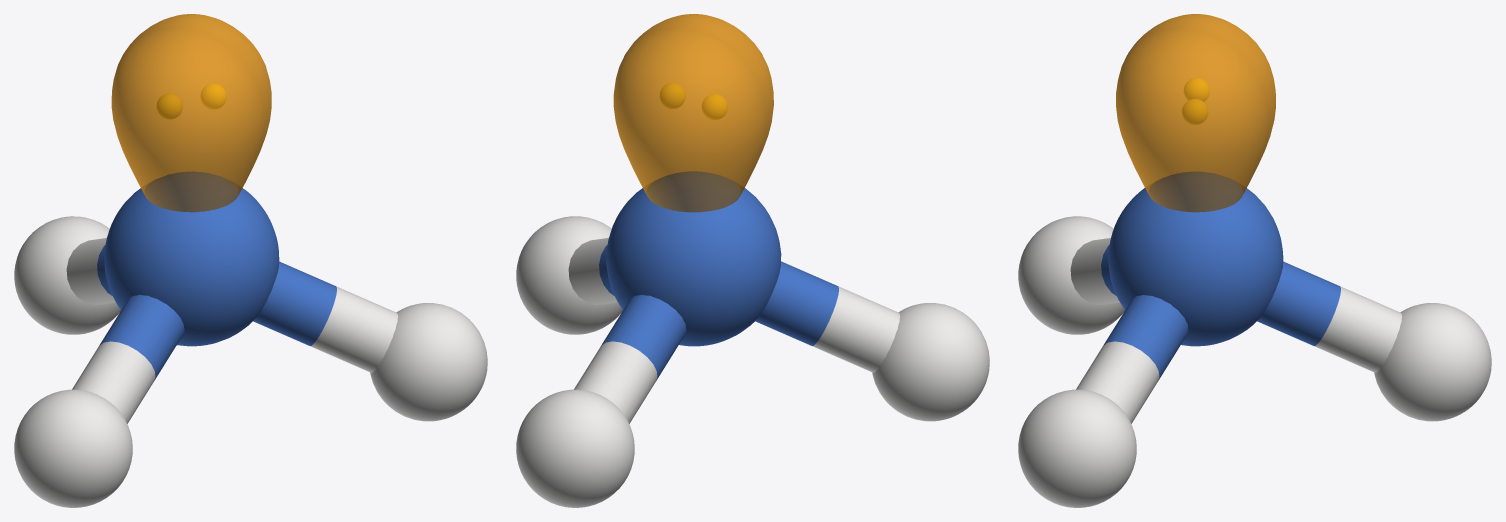
3 views of the same model, side by side, from view 1: azimuth 30°, elevation 25°; view 2: azimuth 150°, elevation 25°; view 3: azimuth 270°, elevation 25° (orthographic).
Parts seen in each view (by area): view 1: 对象002; view 2: 对象002; view 3: 对象002.
Part boxes in pixels (x1=…): 对象002: x1=14, y1=14, x2=487, y2=507; 对象002: x1=516, y1=14, x2=989, y2=507; 对象002: x1=1018, y1=14, x2=1491, y2=507.
Bounding box in the file's own units: 24.14 × 19.95 × 21.64.
